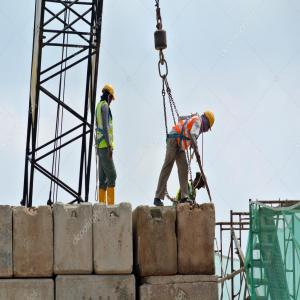yellow: (203, 111, 216, 134), (103, 85, 116, 105)
